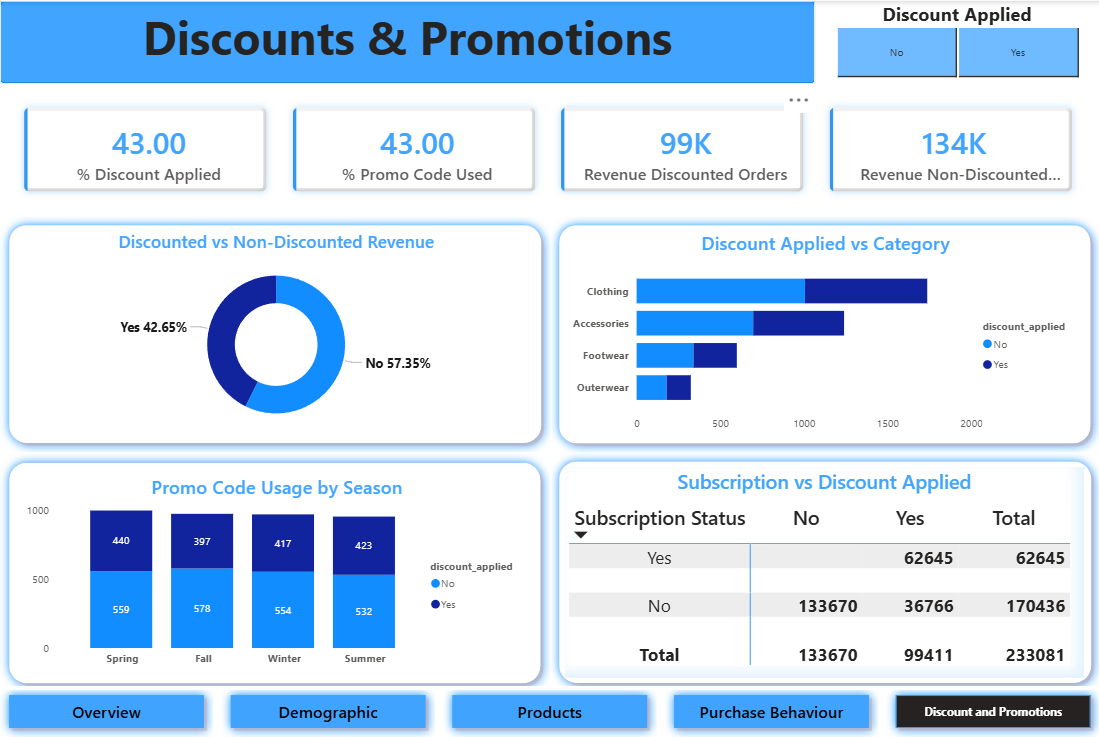

What the dashboard file says about the page in this screenshot:
{"tool":"powerbi","page":{"name":"Discount and Promotions ","canvas":[1270,850],"ordinal":4},"visuals":[{"type":"shape","box":[635,248.5,635,273.3],"z":0},{"type":"shape","box":[0,248.7,635.9,272.7],"z":1000},{"type":"shape","box":[0,523.2,635,276.1],"z":2000},{"type":"shape","box":[0,0,941.5,95.2],"z":3000},{"type":"shape","box":[635.9,521.7,635.9,277.2],"z":4000},{"type":"cardVisual","fields":{"Data":["customer.% Discount Applied","customer.% Promo Code Used","customer.Revenue Discounted Orders","customer.Revenue Non-Discounted Orders"]},"box":[0,95.1,1269,153.5],"z":5000},{"type":"barChart","title":"Discount Applied vs Category","fields":{"Category":["customer.category"],"Y":["customer.Total Rows"],"Series":["customer.discount_applied"]},"box":[654.9,263.6,596.5,241.8],"z":6000},{"type":"columnChart","title":"Promo Code Usage by Season","fields":{"Category":["customer.season"],"Y":["customer.Total Rows"],"Series":["customer.discount_applied"]},"box":[25.4,545.4,587.8,231.7],"z":7000},{"type":"pivotTable","title":"Subscription vs Discount Applied","fields":{"Rows":["customer.subscription_status"],"Columns":["customer.discount_applied"],"Values":["customer.Total_Revenue"]},"box":[652.2,538,599.2,243.2],"z":8000},{"type":"donutChart","title":"Discounted vs Non-Discounted Revenue","fields":{"Category":["customer.discount_applied"],"Y":["customer.Total_Revenue"]},"box":[20.4,263.6,597.8,239.1],"z":9000},{"type":"textbox","box":[0,0,941.5,95.2],"z":10000},{"type":"slicer","title":"Discount Applied","fields":{"Values":["customer.discount_applied"]},"box":[941.5,0,328.5,95.2],"z":11000},{"type":"pageNavigator","box":[0,791.1,1270.4,59.2],"z":12000}]}

Visuals, with their boxes in screenshot pixels (x1, y1, x2, y2), scaled from the page's 1270x850 canvas onto the 1099x737 screenshot:
shape: rect(550, 215, 1098, 452)
shape: rect(0, 216, 550, 452)
shape: rect(0, 454, 550, 693)
shape: rect(0, 0, 815, 83)
shape: rect(550, 452, 1098, 693)
cardVisual - customer.% Discount Applied x customer.% Promo Code Used: rect(0, 82, 1098, 216)
"Discount Applied vs Category" barChart: rect(567, 229, 1083, 438)
"Promo Code Usage by Season" columnChart: rect(22, 473, 531, 674)
"Subscription vs Discount Applied" pivotTable: rect(564, 466, 1083, 677)
"Discounted vs Non-Discounted Revenue" donutChart: rect(18, 229, 535, 436)
textbox: rect(0, 0, 815, 83)
"Discount Applied" slicer: rect(815, 0, 1098, 83)
pageNavigator: rect(0, 686, 1098, 736)
